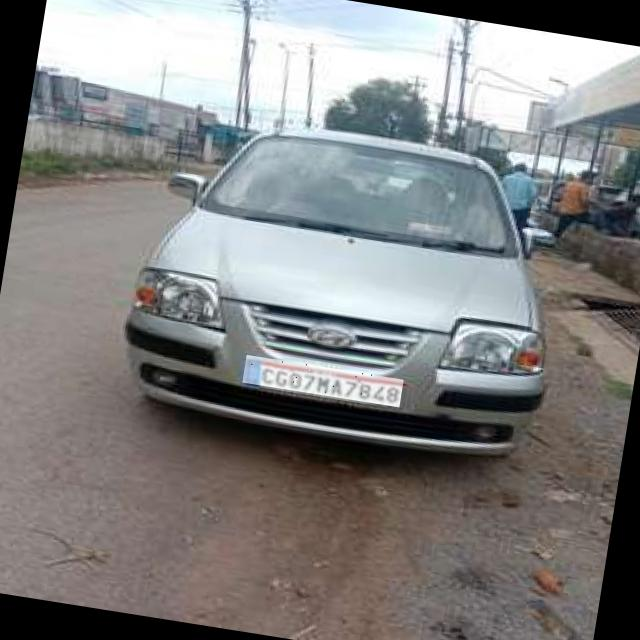Plate: (244, 356, 405, 409)
